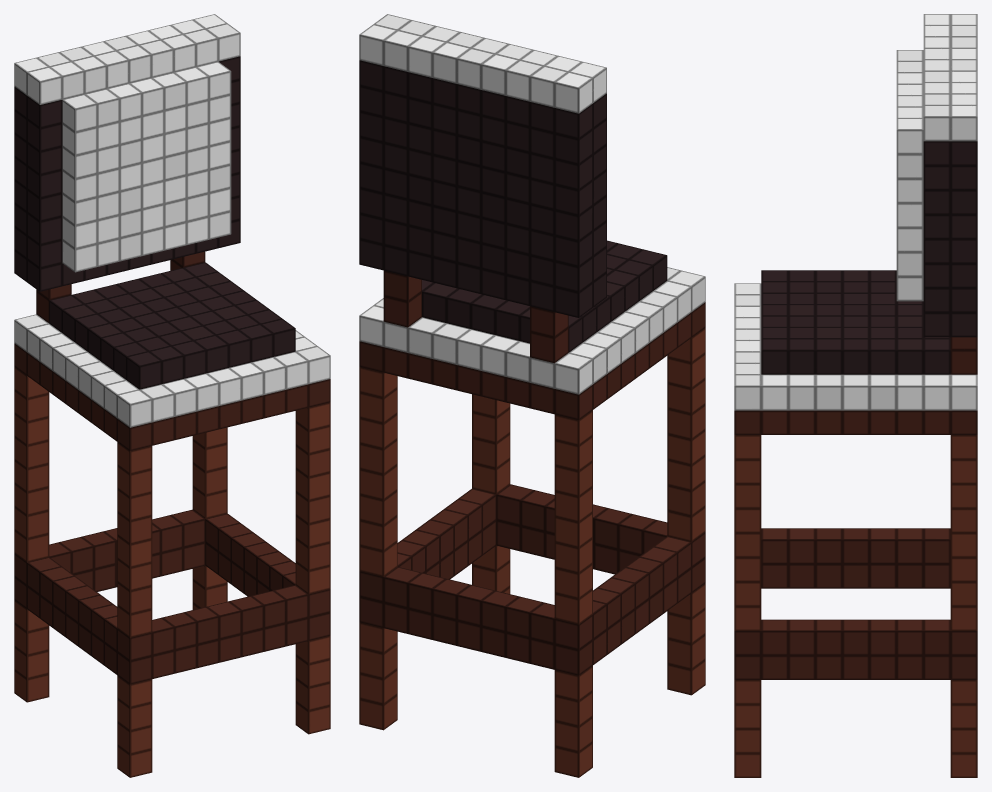
Rendered from bar_stool.glb.
The picture shows the model from 3 angles, left to right: view 1: azimuth 30°, elevation 25°; view 2: azimuth 150°, elevation 25°; view 3: azimuth 270°, elevation 25°; orthographic projection. The views are drawn at different scales.
Visible parts, largest first — view 1: bar_stool; view 2: bar_stool; view 3: bar_stool.
Boxes of the visible parts, x1,y1,x2,y2 form: bar_stool: (14,14,330,777); bar_stool: (359,14,705,777); bar_stool: (734,14,977,777).
Size of the model in its own units: 0.45 by 1.35 by 0.45.
4 materials, 4 textured.
